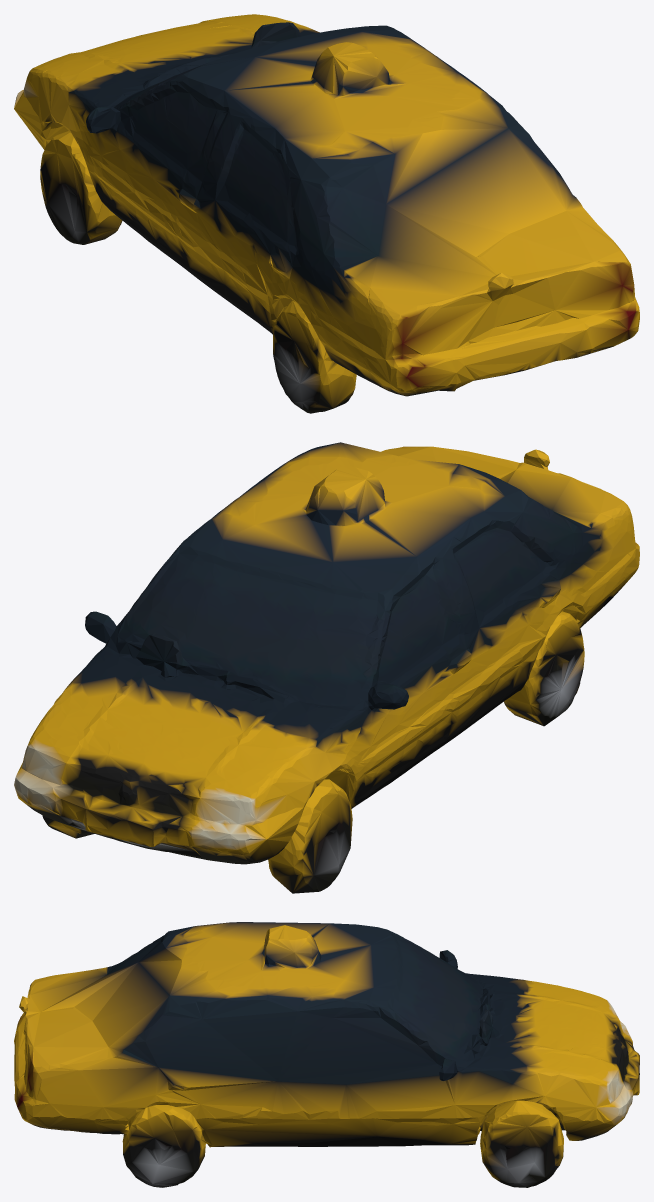
The model's file is taxi_lod1.glb.
3 views of the same model, one above another, from view 1: azimuth 30°, elevation 25°; view 2: azimuth 150°, elevation 25°; view 3: azimuth 270°, elevation 25° (orthographic). The views are drawn at different scales.
Parts seen in each view (by area): view 1: world; view 2: world; view 3: world.
Boxes of the visible parts, x1,y1,x2,y2 form: world: (14,14,639,413); world: (14,442,639,893); world: (14,922,639,1187).
Bounding box in the file's own units: 91.6 × 75.15 × 200.
